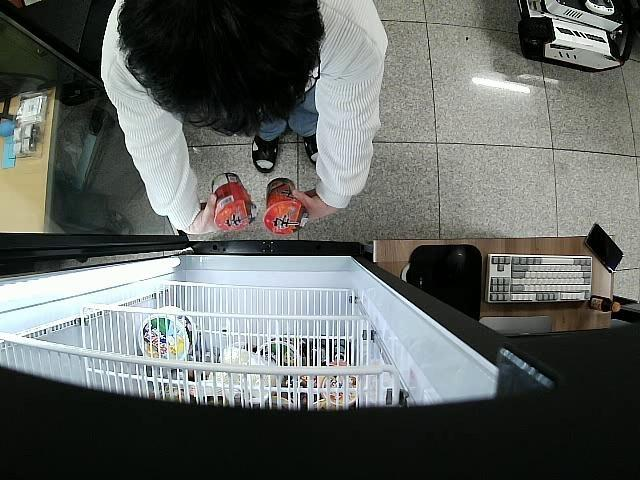02_shinRamen_S: (211, 170, 258, 231), (261, 174, 308, 235)
